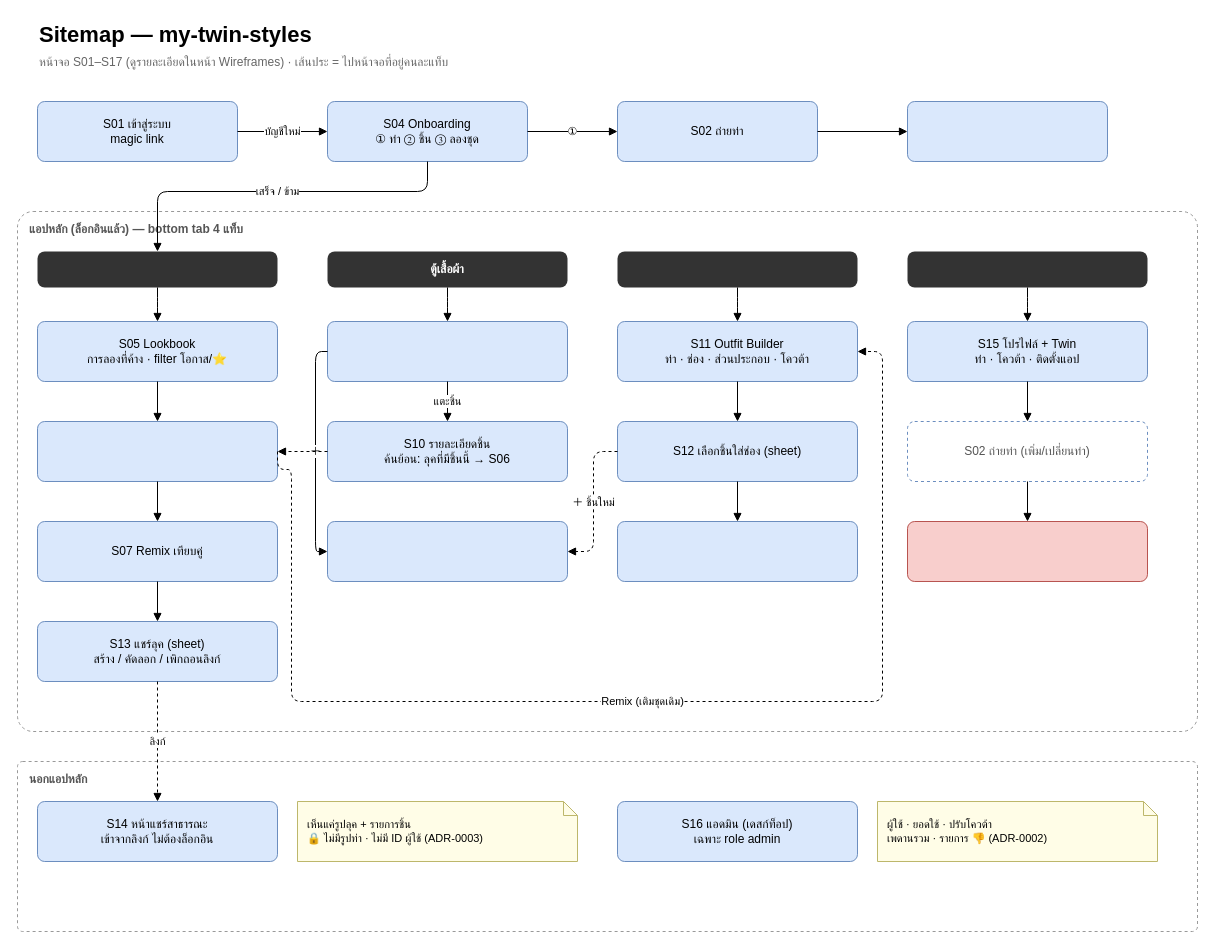
Some shapes in this 1215 by 949 pixel diagram are drawn without their labels. Here are the shapes that lost their labels. From the top down, the centre of each, then its label:
At [1007,131]: "S03 ผลเช็กรูปท่า ❌ บล็อก / ⚠️ เตือน".
At [157,269]: "ลุค (หน้าแรก)".
At [737,269]: "＋ ลองชุด".
At [1027,269]: "โปรไฟล์".
At [447,351]: "S08 ตู้เสื้อผ้า ทั้งหมด · มีแล้ว · อยากได้".
At [157,451]: "S06 รายละเอียดลุค ⭐ · โอกาส · โน้ต · Remix · 👎 · แชร์".
At [447,551]: "S09 เพิ่มชิ้น อัปโหลด → ยืนยันหมวด/สี/สถานะ".
At [737,551]: "S17 ชวนติดตั้ง PWA (หลังการลองครั้งแรก)".
At [1027,551]: "ลบ twin / ลบข้อมูลทั้งหมด (ยืนยัน 2 ชั้น)".
